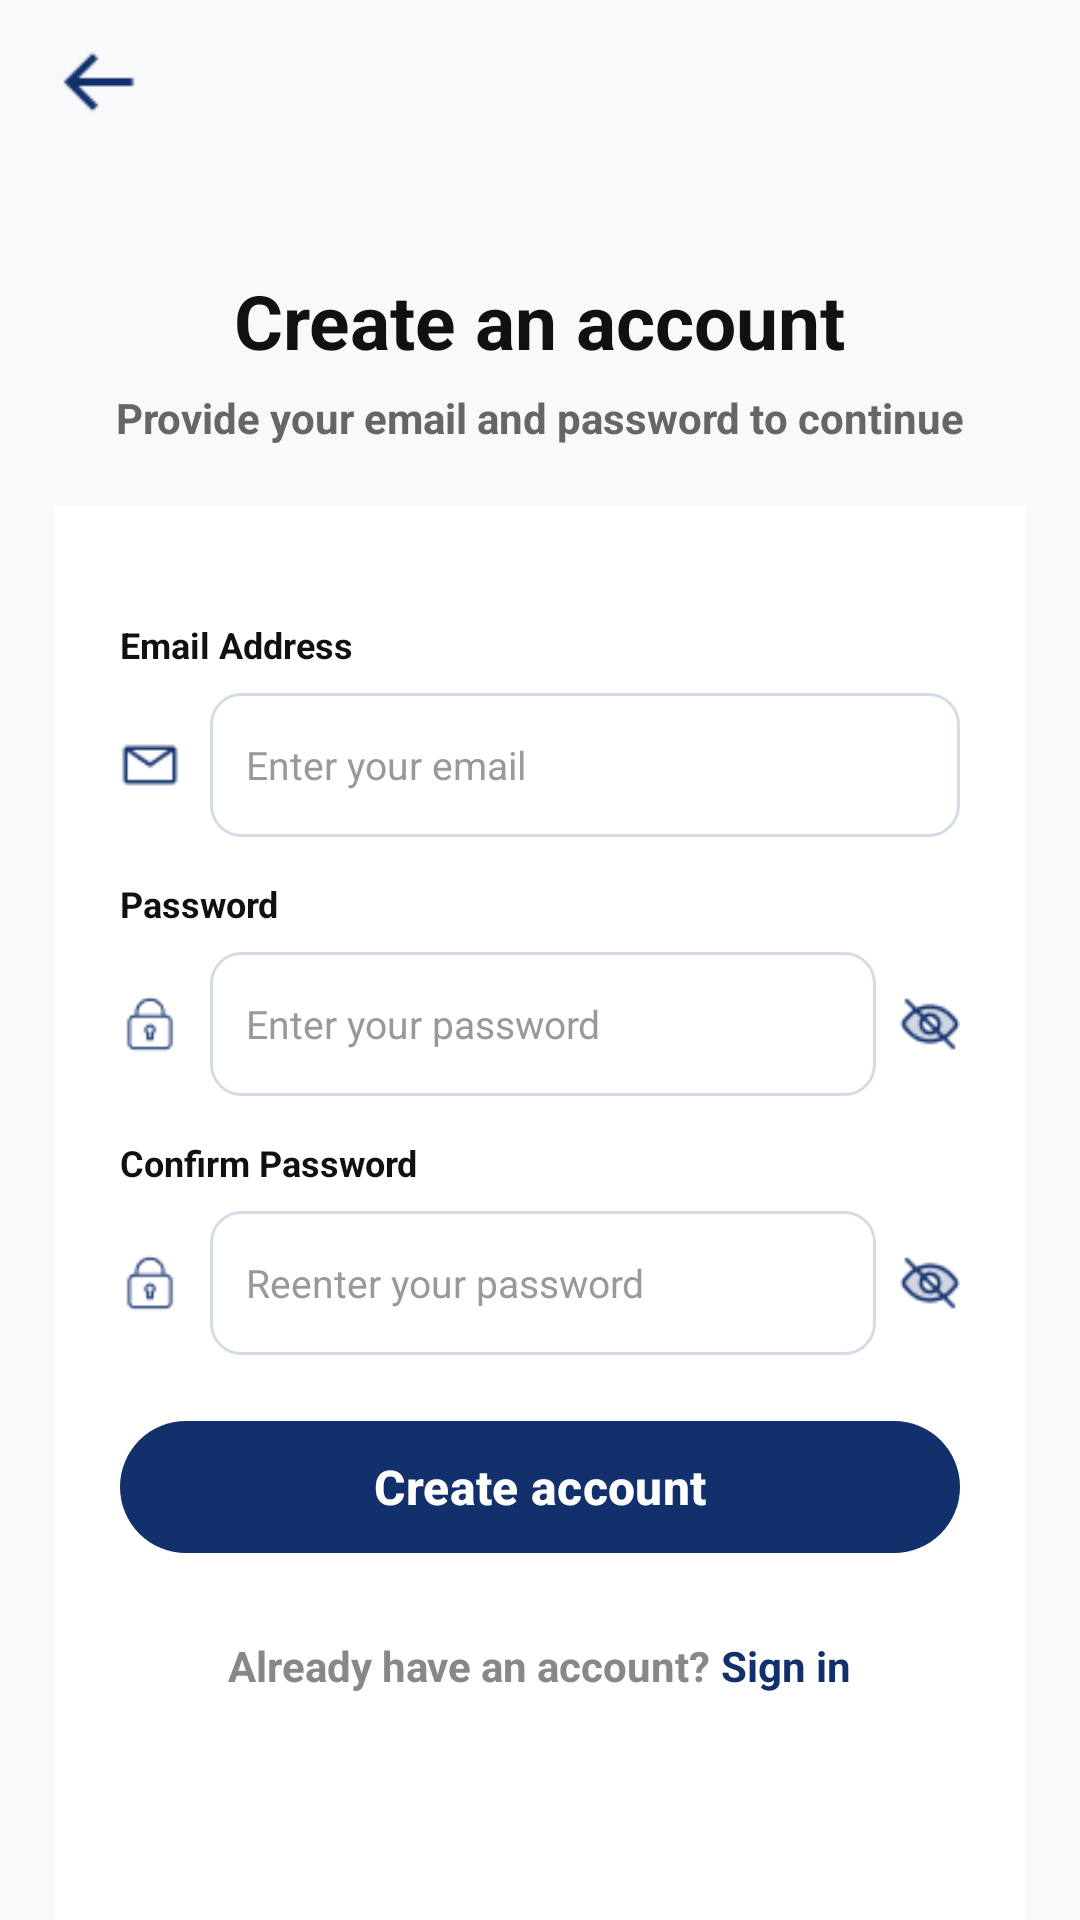

Screen size 1080px×1920px. Icon name, then its center in pixels as (x,y):
back arrow: (99,82)
close eye: (930,1024), (930,1283)
